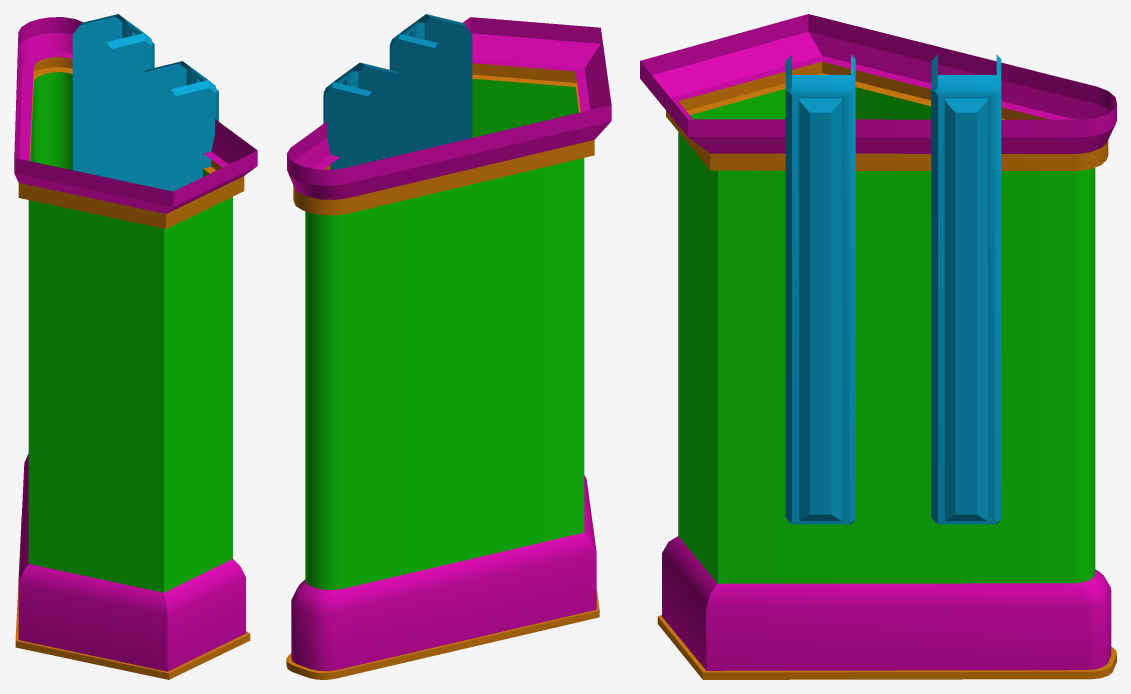
The model's file is palazzo curvo ok.fbx.
3 renders of one model, left to right at view 1: azimuth 30°, elevation 25°; view 2: azimuth 150°, elevation 25°; view 3: azimuth 270°, elevation 25°, orthographic. The views are drawn at different scales.
Visible parts, largest first — view 1: Cube.134; view 2: Cube.134; view 3: Cube.134.
Boxes of the visible parts, x1,y1,x2,y2 form: Cube.134: (14,14,257,679); Cube.134: (286,14,611,679); Cube.134: (640,14,1116,679).
Size of the model in its own units: 1386 by 3435 by 2461.
